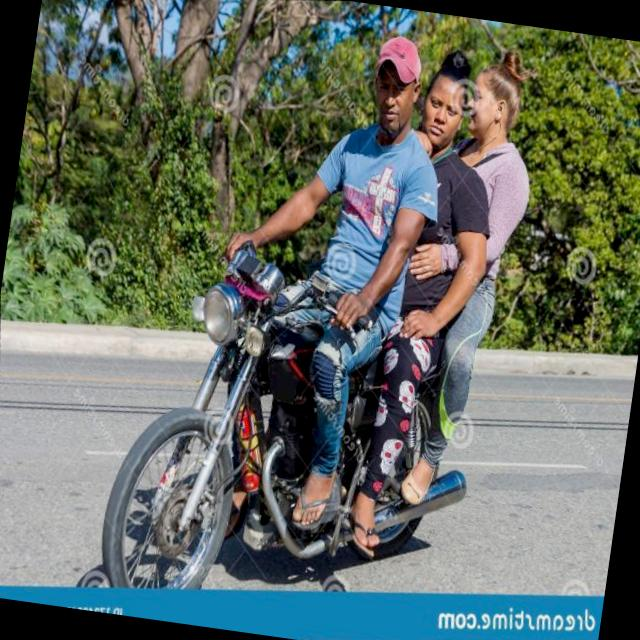motorcycle: (96, 229, 520, 636)
person: (389, 53, 554, 474), (284, 26, 440, 387), (360, 58, 510, 374)
rider_region: (90, 7, 558, 634)
